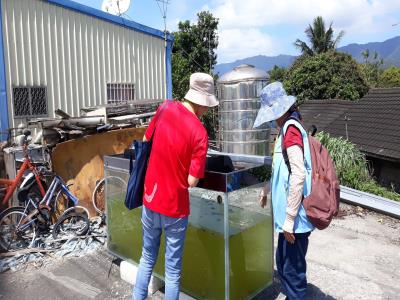aquarium: (100, 149, 275, 300)
water_tower: (213, 61, 274, 156)
